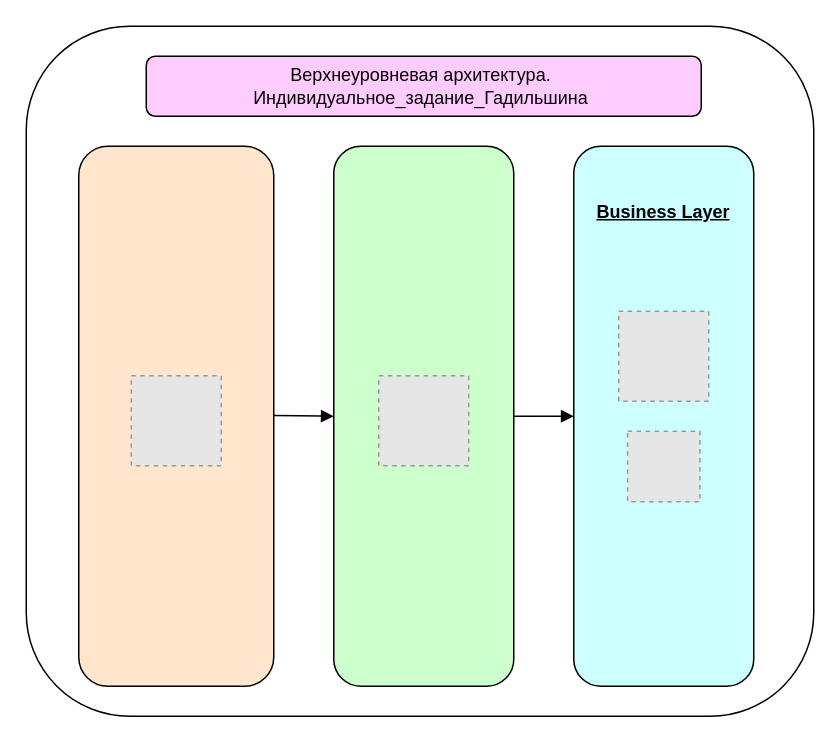
Image size: 840x743. Some labels were removed from this diagram. Grey dashed boxes stand in for pictures. Here are the shapes that lost their labels. From the top down, the box of each, then its label:
(77, 145, 274, 686): Sourse Layer
(332, 145, 514, 686): Storage Layer
